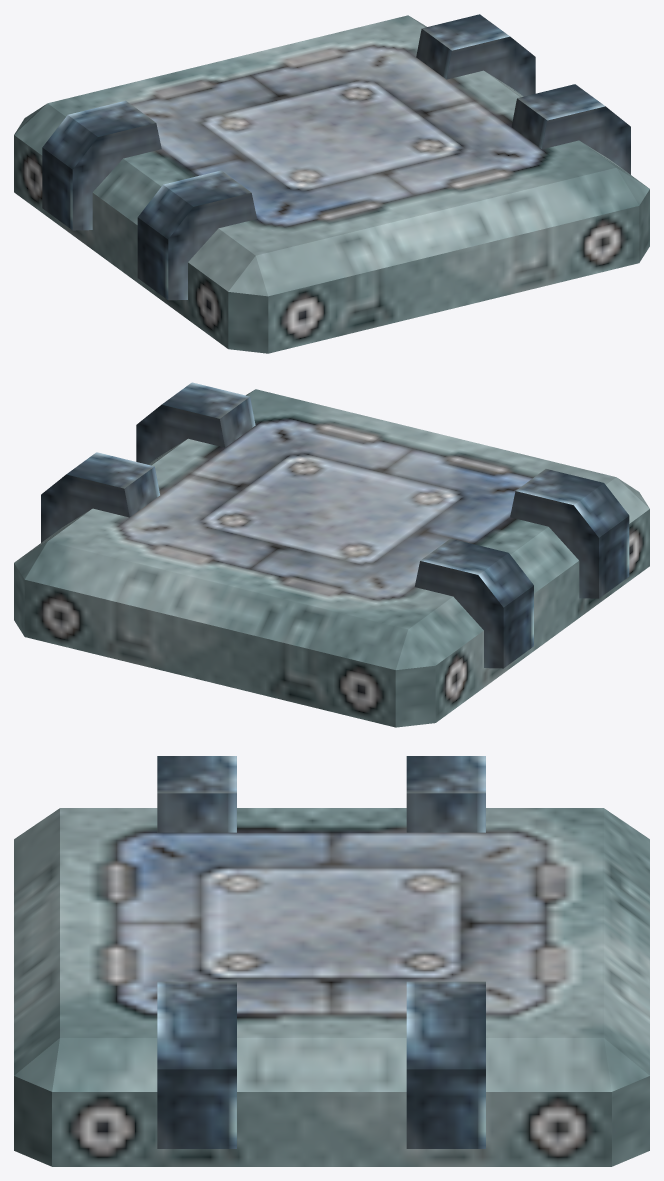
The model's file is Box_big_cap.FBX.
3 renders of one model, top to bottom at view 1: azimuth 30°, elevation 25°; view 2: azimuth 150°, elevation 25°; view 3: azimuth 270°, elevation 25°, orthographic. The views are drawn at different scales.
Visible parts, largest first — view 1: Box_big_cap; view 2: Box_big_cap; view 3: Box_big_cap.
Boxes of the visible parts, bbox=[...] form: Box_big_cap: bbox=[14, 14, 649, 353]; Box_big_cap: bbox=[14, 382, 649, 727]; Box_big_cap: bbox=[14, 756, 649, 1166].
Bounding box in the file's own units: 219 × 55.35 × 200.
